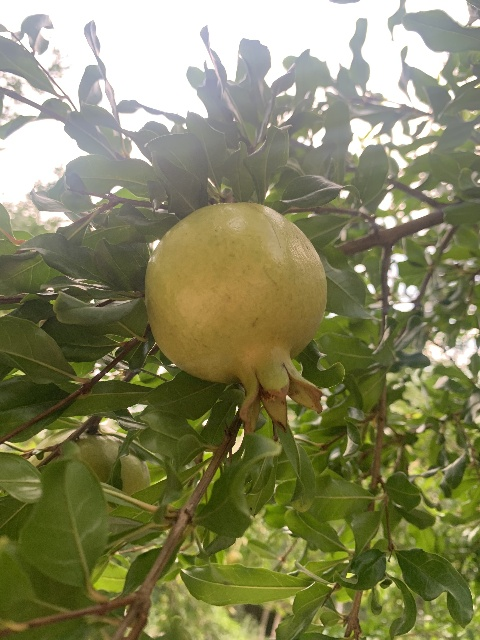mid-growth: (144, 203, 329, 436)
